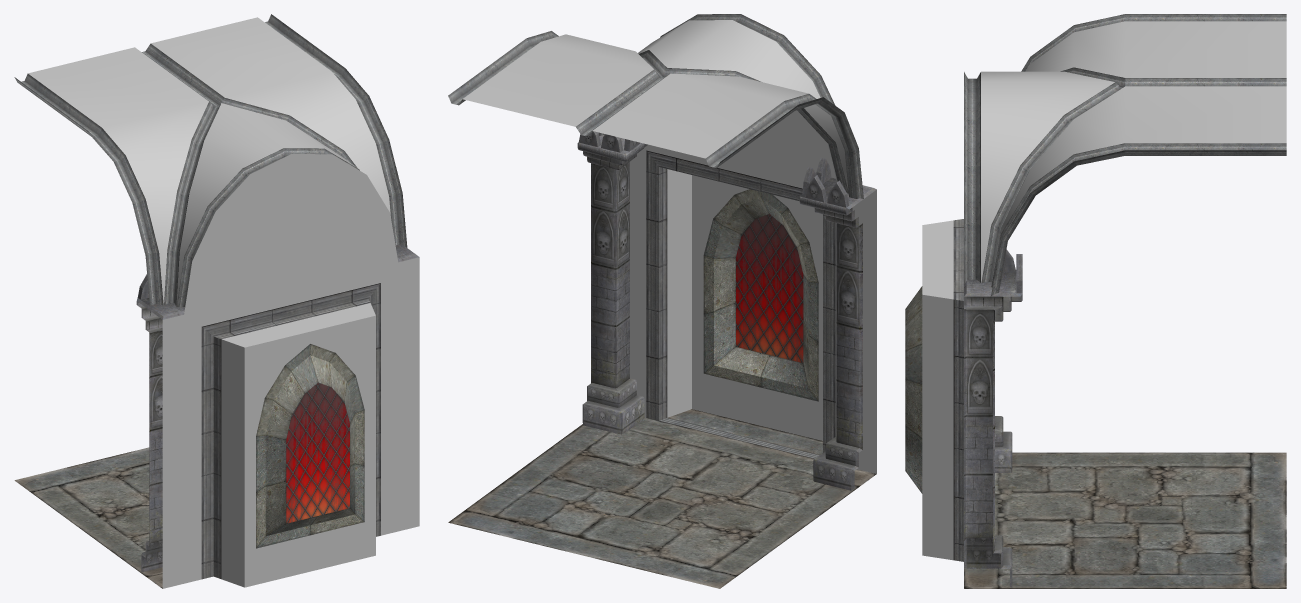
Rendered from Wall_Window1.FBX.
The picture shows the model from 3 angles, left to right: view 1: azimuth 30°, elevation 25°; view 2: azimuth 150°, elevation 25°; view 3: azimuth 270°, elevation 25°; orthographic projection. The views are drawn at different scales.
Parts seen in each view (by area): view 1: WallWindow_1; view 2: WallWindow_1; view 3: WallWindow_1.
Boxes of the visible parts, x1,y1,x2,y2 form: WallWindow_1: [14, 14, 419, 588]; WallWindow_1: [448, 14, 876, 588]; WallWindow_1: [905, 14, 1286, 588].
Bounding box in the file's own units: 500 × 750 × 591.
